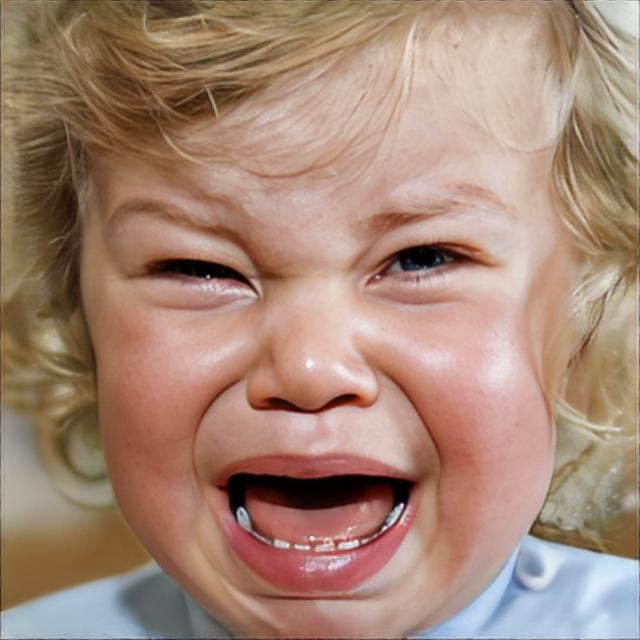sad: (92, 53, 558, 640)
